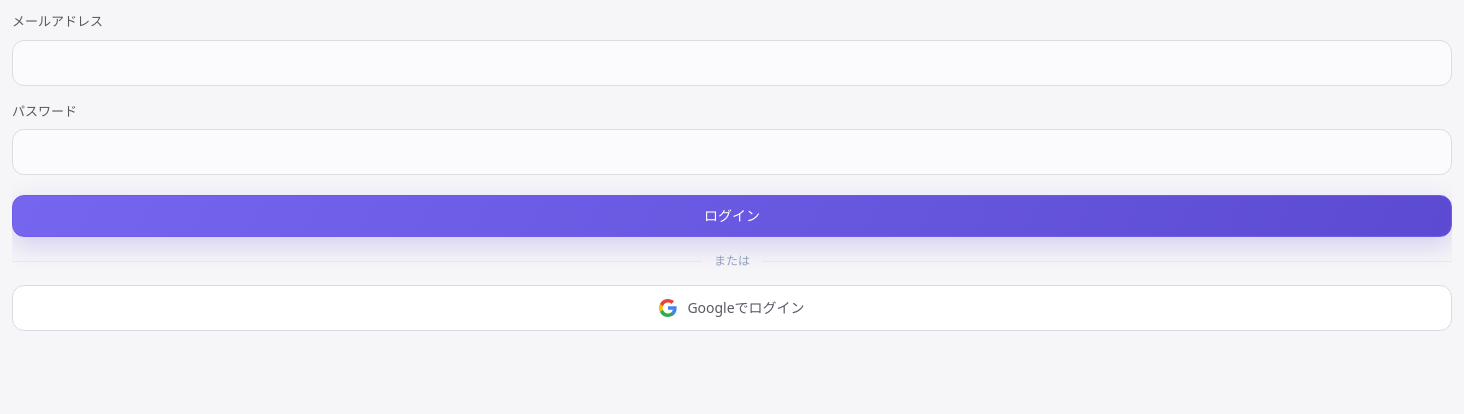
Test: LoginForm › shows a friendly Japanese message for INVALID_CREDENTIALS instead of the raw code
In the field labelled "メールアドレス": [732, 62] box [12,40,1452,86], type "user@example.com"
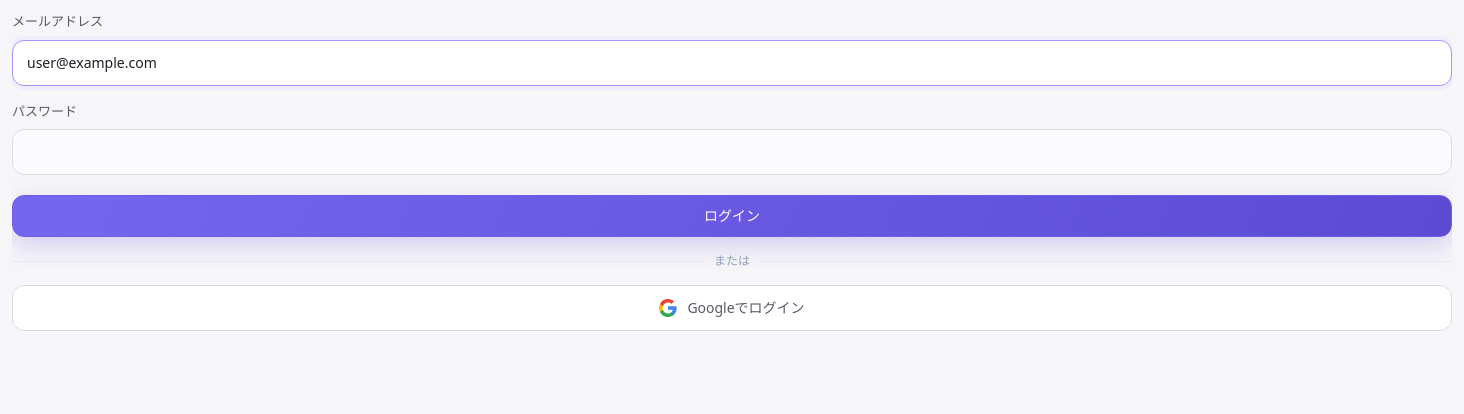
In the password field labelled "パスワード": [732, 152] box [12,129,1452,175], type "wrong-password"
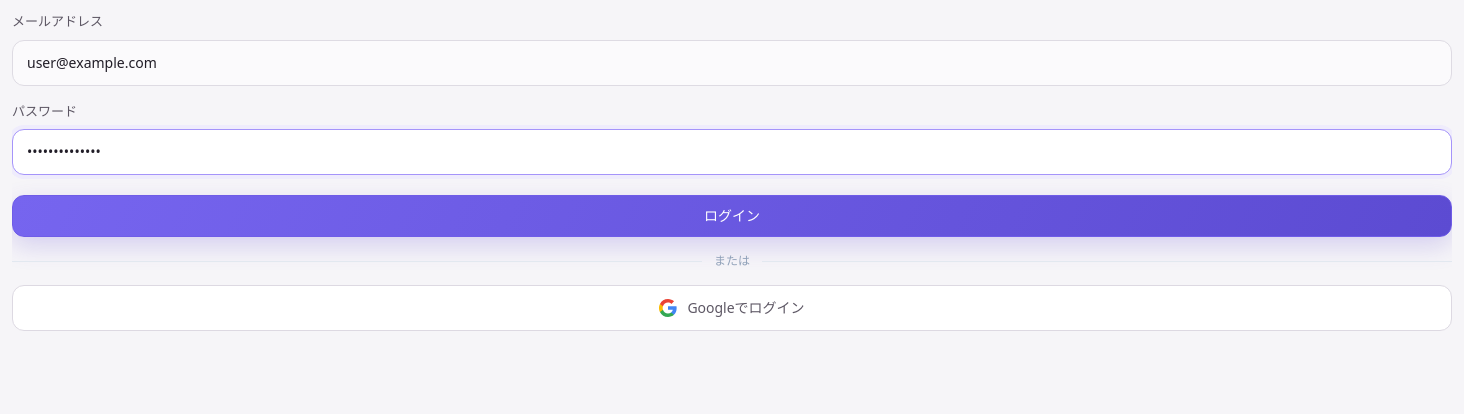
Click the button "ログイン": [732, 216] box [12,195,1452,237]
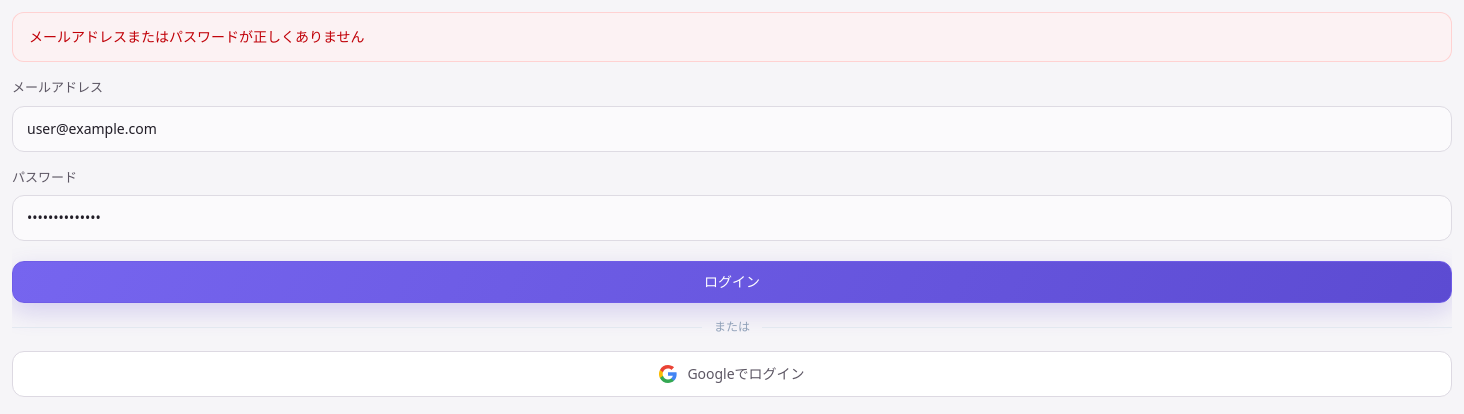
Expected: the message reads "メールアドレスまたはパスワードが正しくありません", [29,27,365,46]
